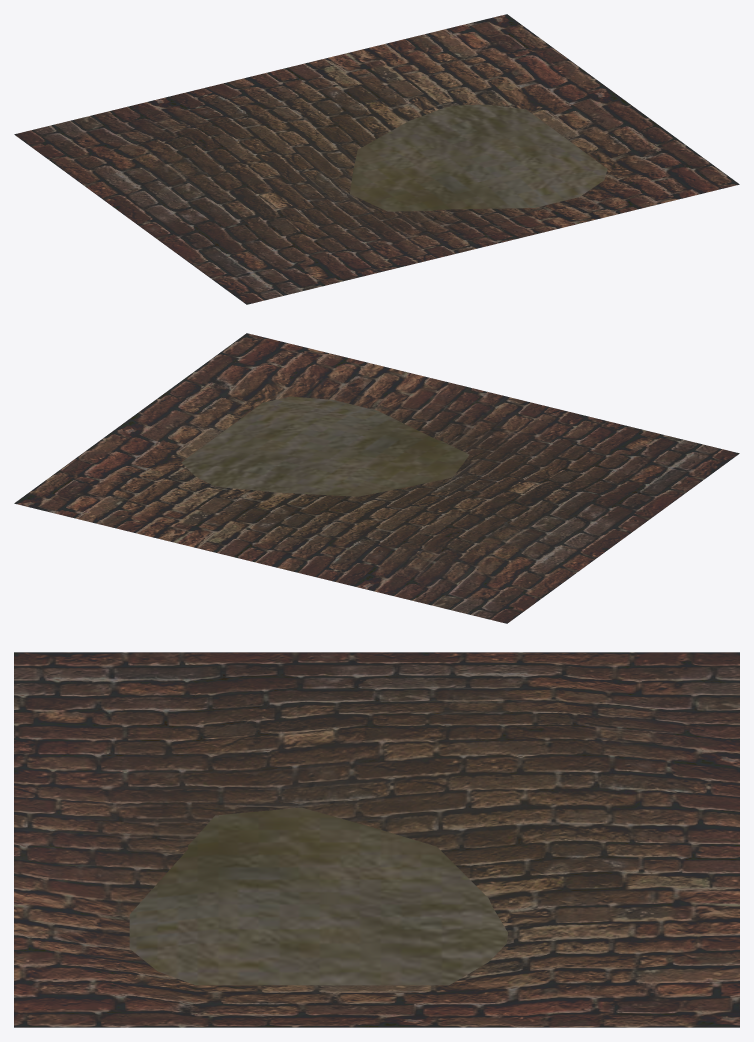
The model's file is BrickFloor_3.FBX.
3 views of the same model, one above another, from view 1: azimuth 30°, elevation 25°; view 2: azimuth 150°, elevation 25°; view 3: azimuth 270°, elevation 25° (orthographic). The views are drawn at different scales.
Visible parts, largest first — view 1: BrickFloor_3; view 2: BrickFloor_3; view 3: BrickFloor_3.
Part boxes in pixels (x1,y1,x2,y2): BrickFloor_3: [14, 14, 739, 304]; BrickFloor_3: [14, 333, 739, 623]; BrickFloor_3: [14, 652, 739, 1027].
Size of the model in its own units: 7919 by 396 by 6476.
2 materials, 2 textured.
